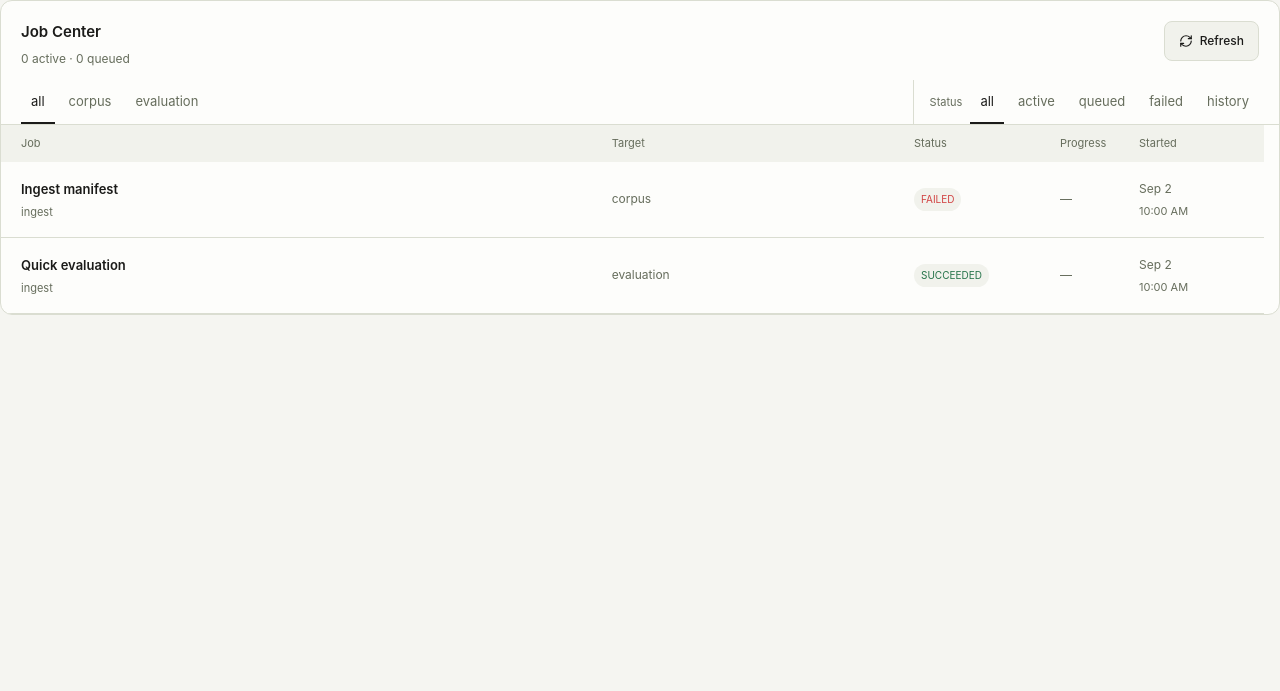
Test: explicit job navigation › explains an excluded selection instead of silently selecting the first remaining job
The width and height of the screenshot is (1280, 691).
Click the button "Ingest manifest ingest corpus failed — Sep 2 10:00 AM". click: (632, 200)
box: top-left (1, 162), bottom-right (1264, 238)
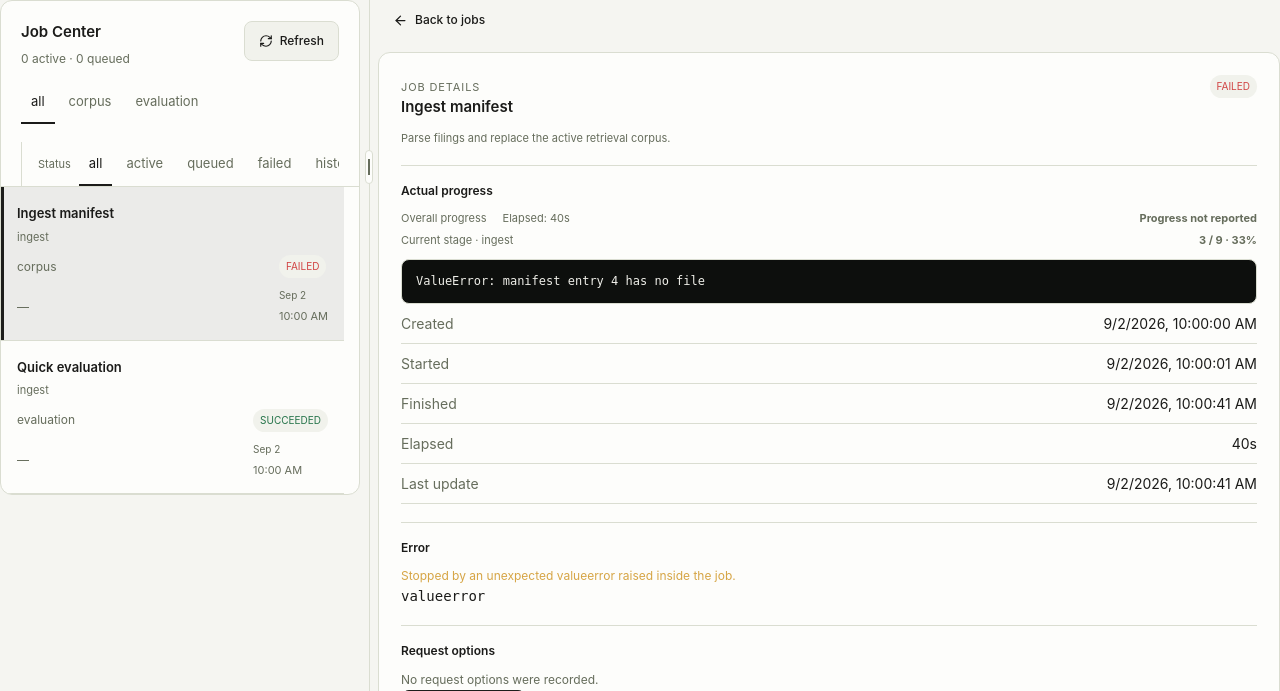
Click the button "evaluation". click: (167, 102)
box: top-left (125, 80), bottom-right (208, 124)
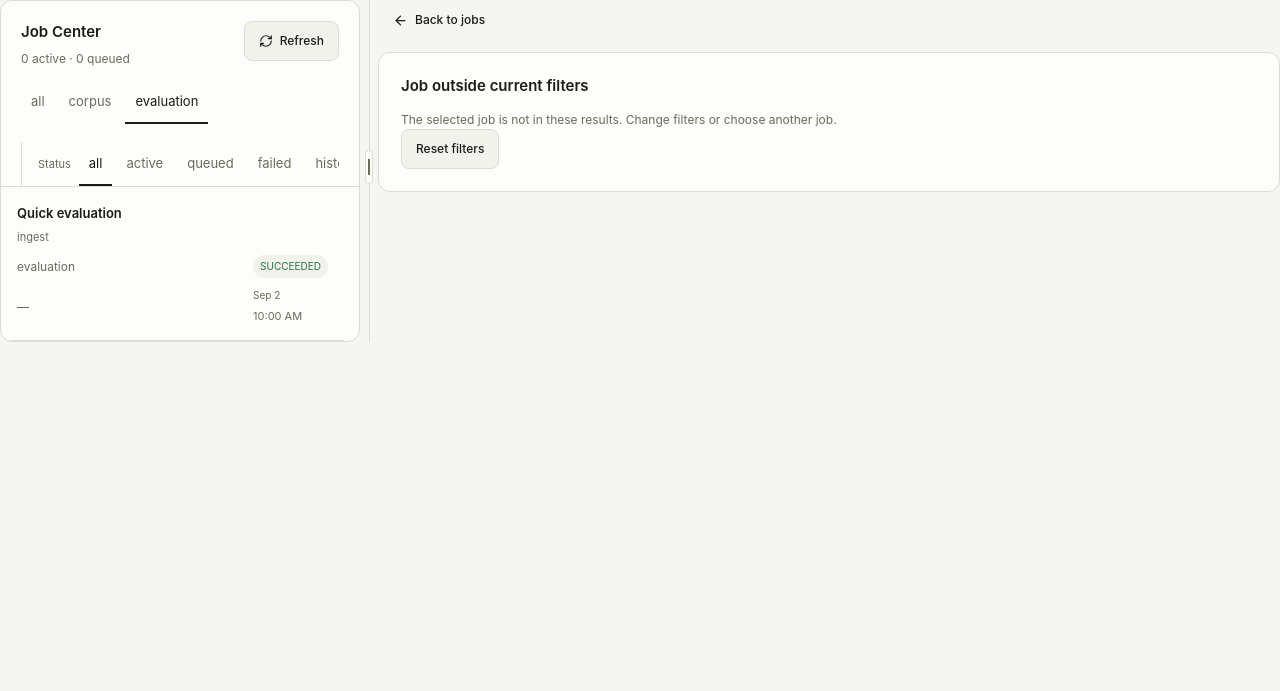
Check: the heading "Job outside current filters" is shown, box top-left (401, 76), bottom-right (589, 95)
